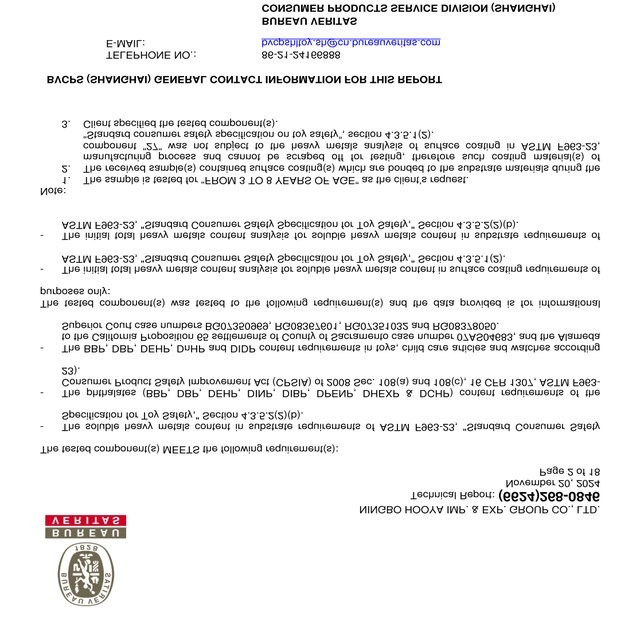bureau_veritas: (42, 508, 129, 612)
